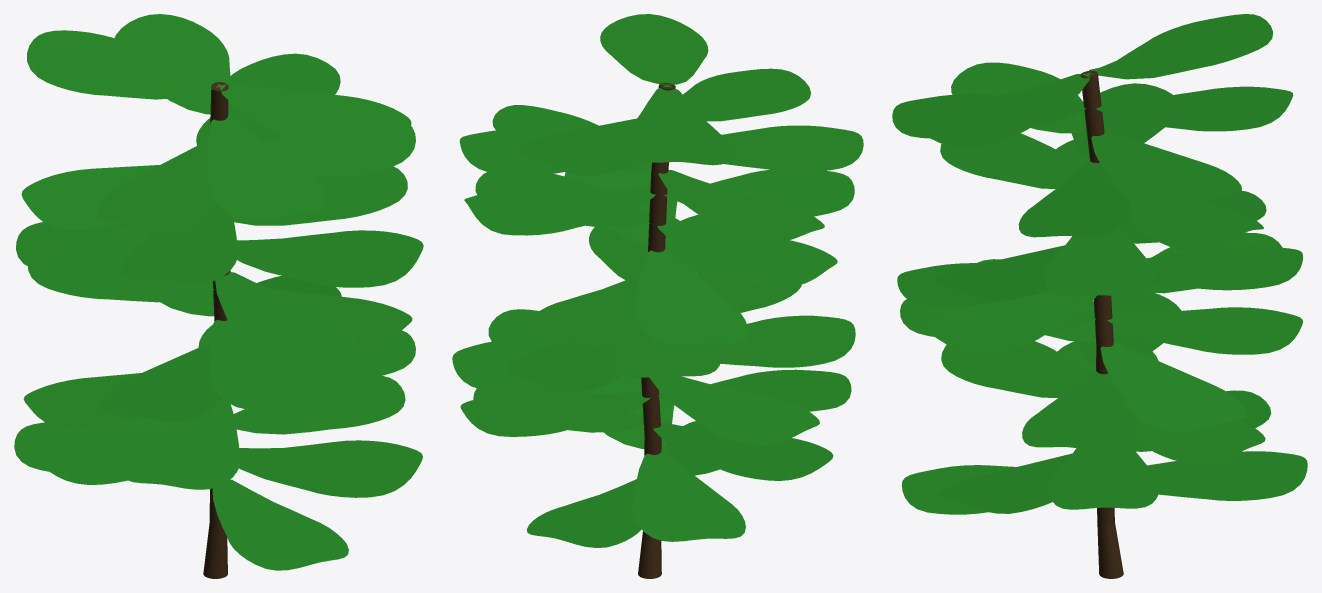
File: Plant1.fbx
3 renders of one model, left to right at view 1: azimuth 30°, elevation 25°; view 2: azimuth 150°, elevation 25°; view 3: azimuth 270°, elevation 25°, orthographic. The views are drawn at different scales.
Parts seen in each view (by area): view 1: bush; view 2: bush; view 3: bush.
Boxes of the visible parts, x1,y1,x2,y2 form: bush: (14,14,423,578); bush: (452,14,863,578); bush: (892,14,1307,578).
Size of the model in its own units: 210 by 285 by 213.
